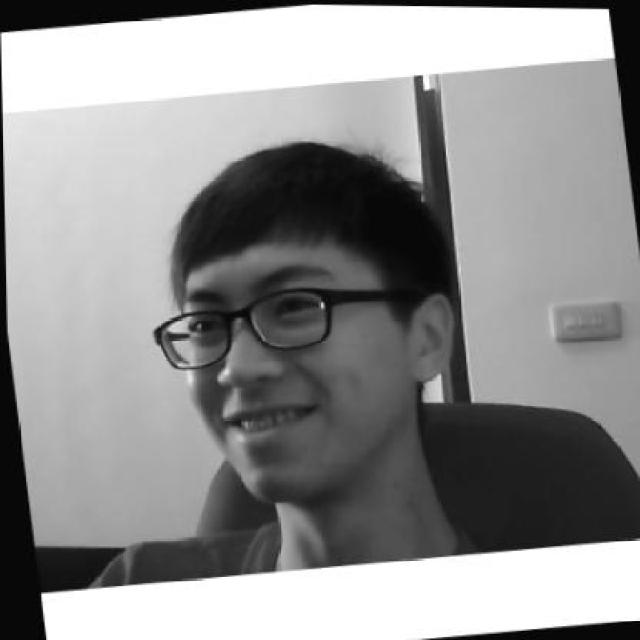attentif: (133, 123, 470, 506)
